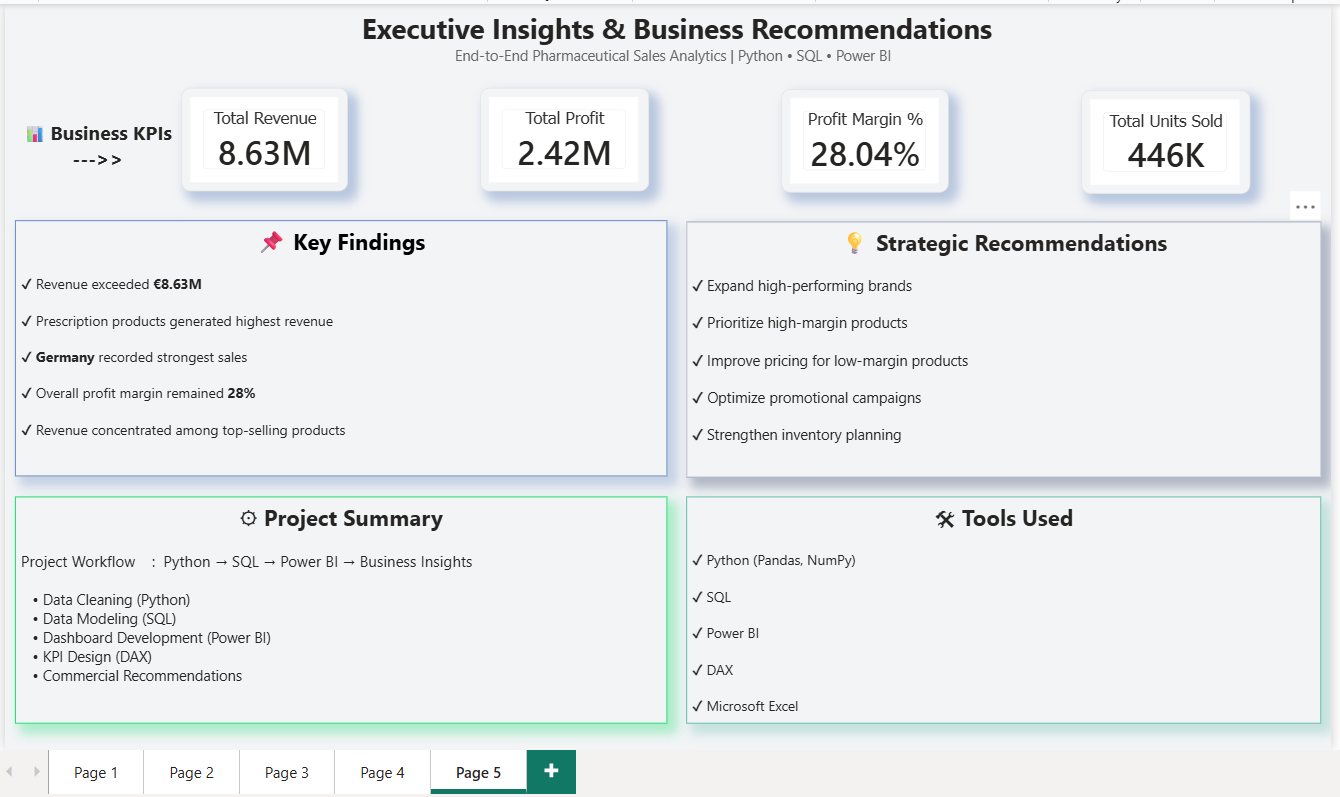

The page's visual inventory and layout, read from the dashboard file:
{"tool":"powerbi","page":{"name":"Page 5","canvas":[1280,720],"ordinal":4},"visuals":[{"type":"textbox","box":[9.7,0,1270.4,80.8],"z":0},{"type":"textbox","box":[9.8,70.9,160.2,100.3],"z":1000},{"type":"cardVisual","fields":{"Data":["Measures_Table.Total Revenue"]},"box":[170.1,80.8,160.5,100.1],"z":2000},{"type":"cardVisual","fields":{"Data":["Measures_Table.Total Profit"]},"box":[458.4,80.8,162.9,100.1],"z":3000},{"type":"cardVisual","fields":{"Data":["Measures_Table.Profit Margin %"]},"box":[749.2,82,161.7,100.1],"z":4000},{"type":"cardVisual","fields":{"Data":["Measures_Table.Total Units Sold"]},"box":[1038.7,83.2,162.9,100.1],"z":5000},{"type":"textbox","box":[9.7,208.7,629.8,247.3],"z":6000},{"type":"textbox","box":[657.5,209.9,612.9,247.3],"z":7000},{"type":"textbox","box":[9.7,475.3,629.8,219.6],"z":8000},{"type":"textbox","box":[657.5,475.3,612.9,219.6],"z":9000}]}

Visuals, with their boxes on the page's 1280x720 design canvas (x1, y1, x2, y2). These are canvas units, not pixel positions in the 1340x797 screenshot, which may show the page scaled, cropped or inside an application window:
textbox: [10,0,1280,81]
textbox: [10,71,170,171]
cardVisual - Measures_Table.Total Revenue: [170,81,331,181]
cardVisual - Measures_Table.Total Profit: [458,81,621,181]
cardVisual - Measures_Table.Profit Margin %: [749,82,911,182]
cardVisual - Measures_Table.Total Units Sold: [1039,83,1202,183]
textbox: [10,209,640,456]
textbox: [658,210,1270,457]
textbox: [10,475,640,695]
textbox: [658,475,1270,695]
